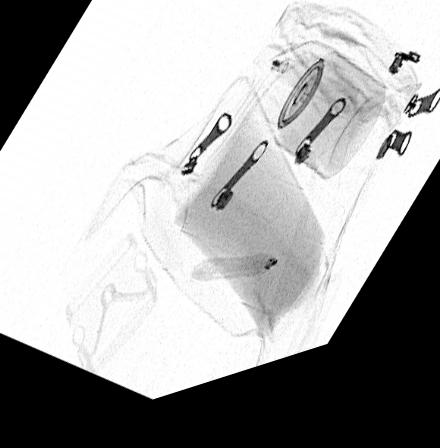Sprayer: (254, 60, 387, 202)
